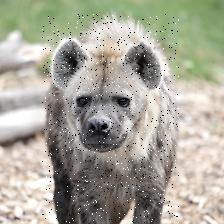hyena: (43, 14, 179, 224)
